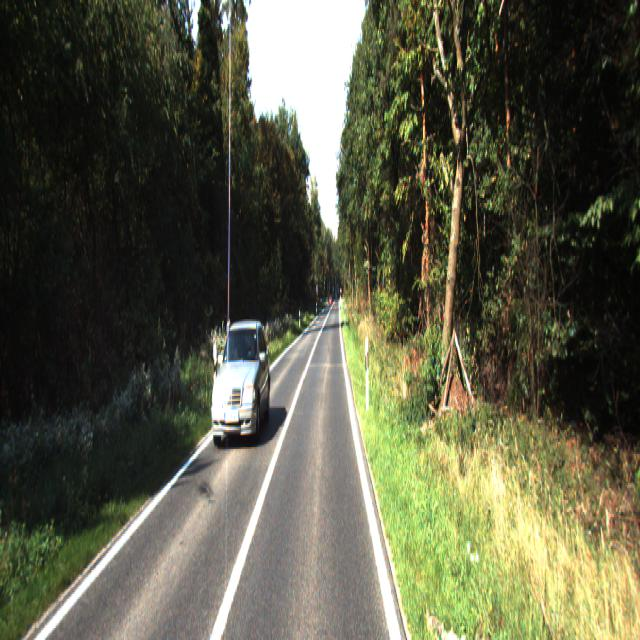Car: (209, 315, 273, 450)
